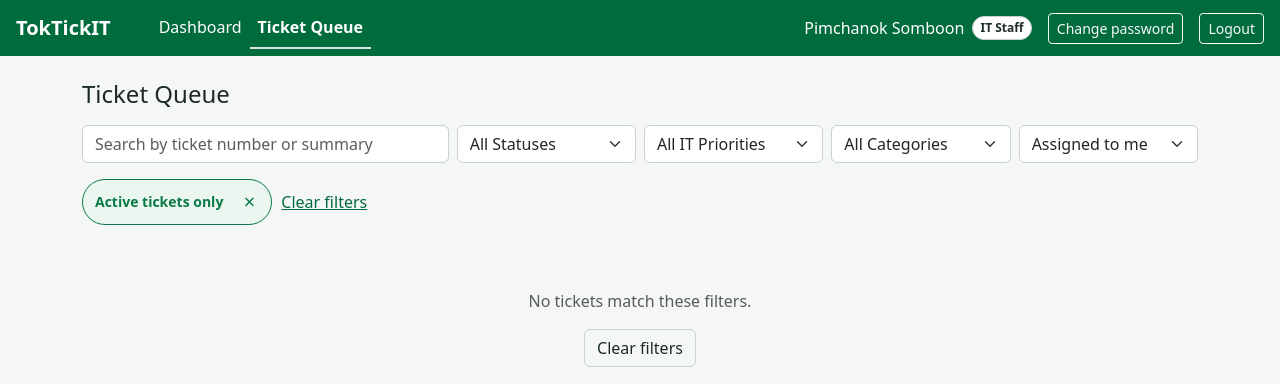
Test case: drill-down targets read the dashboard query string › drops the Active tickets only chip with Clear filters
Expected: the text "Active tickets only" is shown, [95,192,223,211]
Step 1. Click the button "Clear filters" next to "Active tickets only" → (324,202), box [280,189,368,215]
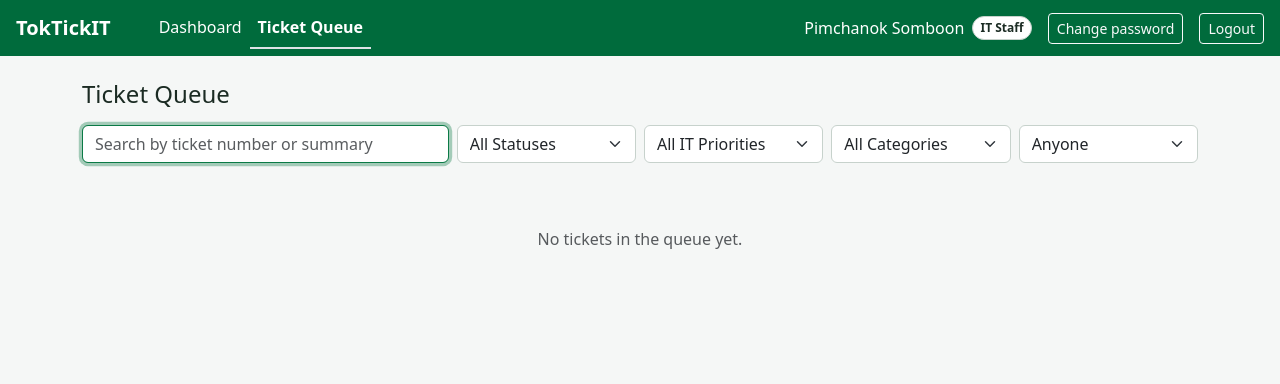
Now the text "Active tickets only" is gone
